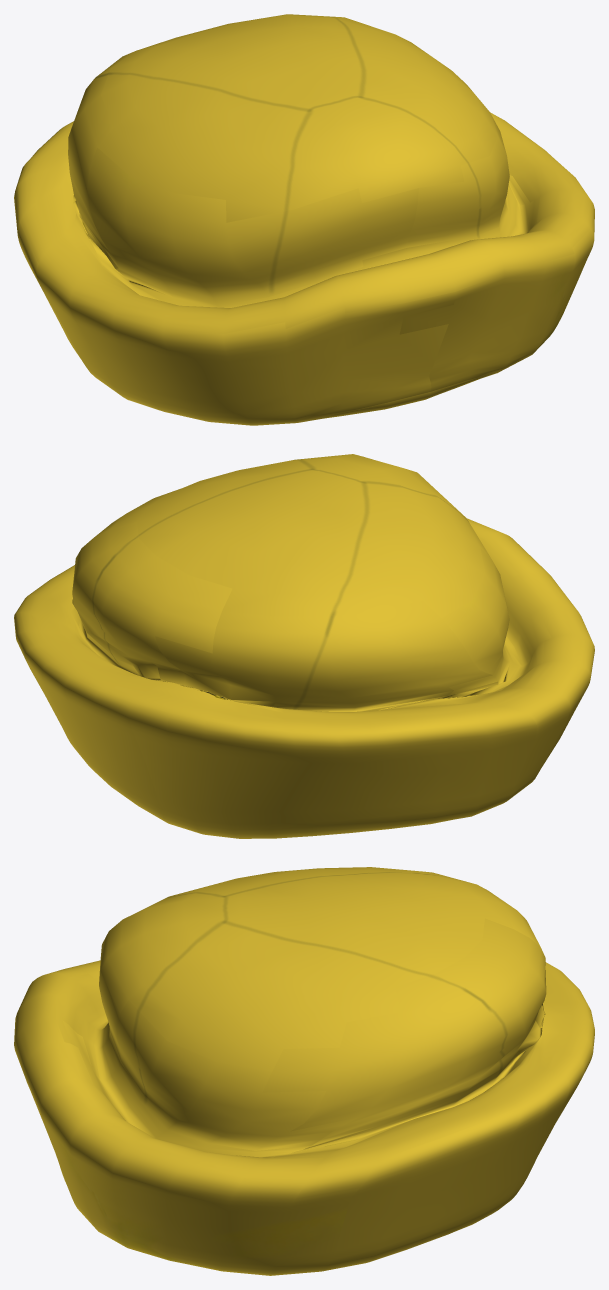
The model's file is Fisherman.glb.
3 views of the same model, one above another, from view 1: azimuth 30°, elevation 25°; view 2: azimuth 150°, elevation 25°; view 3: azimuth 270°, elevation 25° (orthographic). The views are drawn at different scales.
Visible parts, largest first — view 1: Fisherman; view 2: Fisherman; view 3: Fisherman.
Boxes of the visible parts, box(x1,y1,x2,y2) form: Fisherman: box(14, 14, 594, 425); Fisherman: box(14, 454, 594, 838); Fisherman: box(14, 867, 594, 1275).
Bounding box in the file's own units: 0.4909 × 0.2483 × 0.4687.
Materials: 1 (1 with a texture image).
